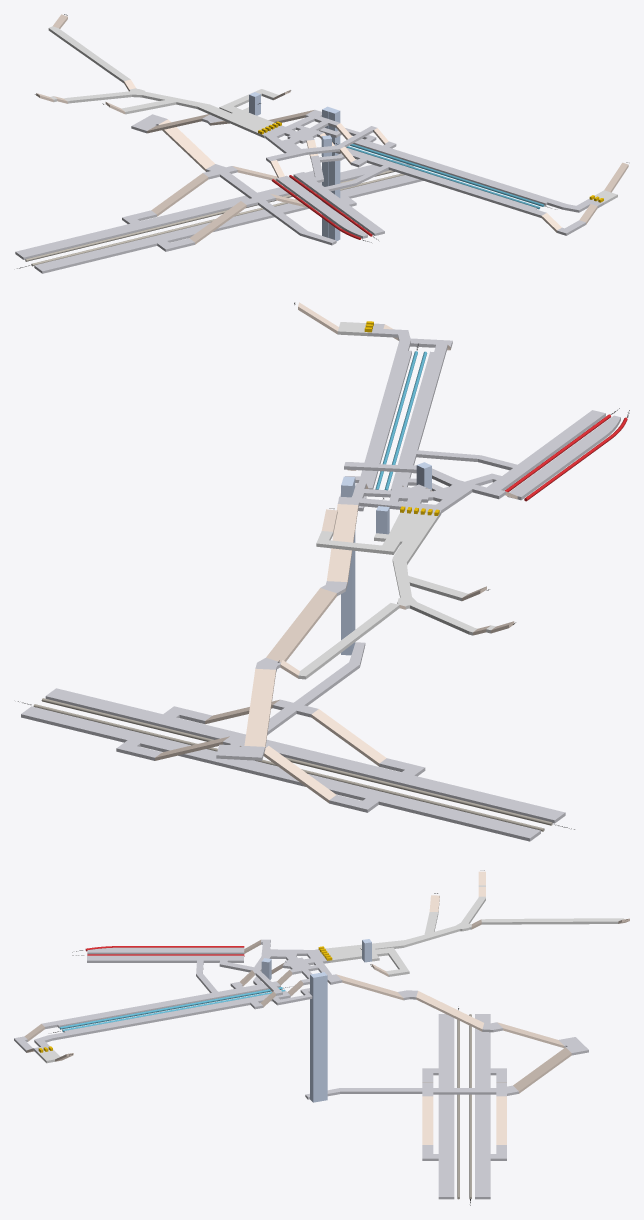
The model's file is cuatro_caminos.glb.
The picture shows the model from 3 angles, top to bottom: view 1: azimuth 30°, elevation 25°; view 2: azimuth 150°, elevation 25°; view 3: azimuth 270°, elevation 25°; orthographic projection. The views are drawn at different scales.
Parts seen in each view (by area): view 1: rect19445, path1990, path1938.001, path1986, rect19374, rect19435, path2080, path18618, rect19495, path2082, path2084, rect19432 (+5 smaller); view 2: rect19445, path1990, path1938.001, rect19374, path1986, rect19435, path2084, path18618, rect18632-5-1, rect19389, path2082, rect18632-5 (+6 smaller); view 3: rect19445, path1990, path1986, path1938.001, rect19374, rect19435, rect19495, path18618, path2080, rect19493, path2086, rect19432 (+6 smaller).
Part boxes in pixels (x1=…): rect19445: x1=15, y1=159, x2=423, y2=273; path1990: x1=293, y1=145, x2=546, y2=235; path1938.001: x1=64, y1=88, x2=278, y2=136; path1986: x1=319, y1=127, x2=603, y2=212; rect19374: x1=260, y1=110, x2=376, y2=163; rect19435: x1=203, y1=164, x2=336, y2=245; path2080: x1=346, y1=144, x2=544, y2=209; path18618: x1=276, y1=175, x2=367, y2=238; rect19495: x1=328, y1=109, x2=340, y2=240; path2082: x1=25, y1=165, x2=413, y2=261; path2084: x1=31, y1=173, x2=404, y2=266; rect19432: x1=158, y1=119, x2=214, y2=171; rect19445: x1=21, y1=688, x2=565, y2=841; path1990: x1=390, y1=344, x2=605, y2=491; path1938.001: x1=316, y1=511, x2=477, y2=635; rect19374: x1=337, y1=462, x2=505, y2=517; path1986: x1=340, y1=323, x2=411, y2=511; rect19435: x1=223, y1=642, x2=365, y2=747; path2084: x1=41, y1=698, x2=552, y2=825; path18618: x1=507, y1=415, x2=620, y2=500; rect18632-5-1: x1=244, y1=668, x2=275, y2=747; rect19389: x1=266, y1=588, x2=336, y2=662; path2082: x1=33, y1=704, x2=544, y2=831; rect18632-5: x1=327, y1=504, x2=358, y2=584; rect19445: x1=422, y1=1014, x2=506, y2=1199; path1990: x1=42, y1=955, x2=280, y2=1029; path1986: x1=33, y1=988, x2=312, y2=1053; path1938.001: x1=325, y1=896, x2=485, y2=976; rect19374: x1=252, y1=939, x2=342, y2=995; rect19435: x1=305, y1=1082, x2=518, y2=1099; rect19495: x1=310, y1=973, x2=320, y2=1102; path18618: x1=87, y1=947, x2=244, y2=954; path2080: x1=59, y1=987, x2=285, y2=1032; rect19493: x1=317, y1=972, x2=327, y2=1101; path2086: x1=481, y1=918, x2=623, y2=924; rect19432: x1=513, y1=1047, x2=571, y2=1093.
Bounding box in the file's own units: 178 × 66 × 233.
